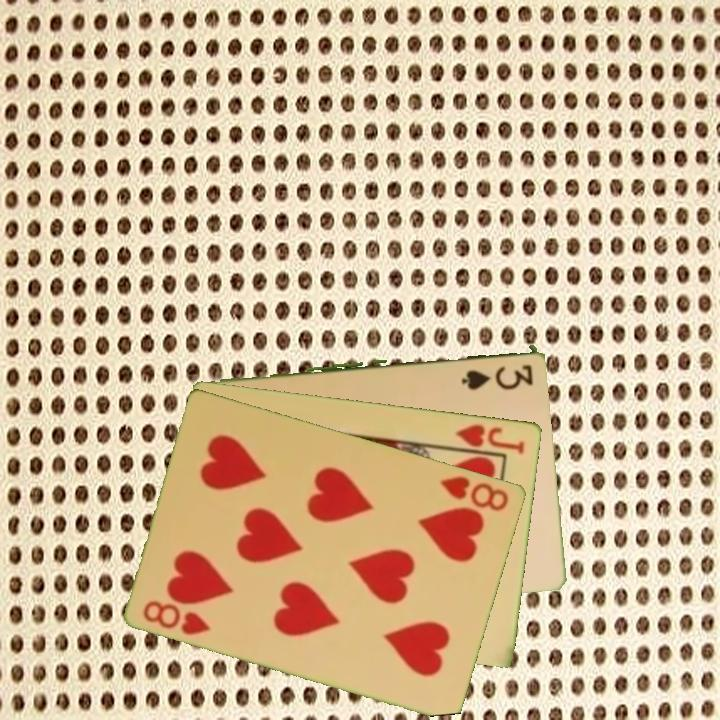3s: (458, 360, 536, 388)
8h: (437, 472, 512, 514), (139, 596, 214, 638)
Jh: (445, 420, 528, 457)
